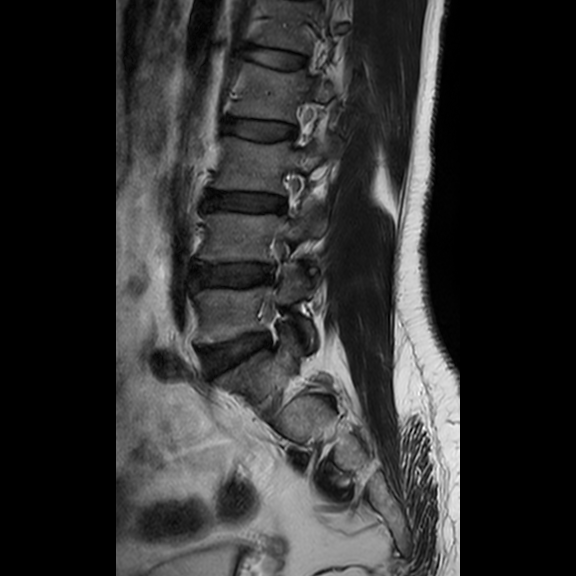RFS0: (267, 158, 310, 225)
